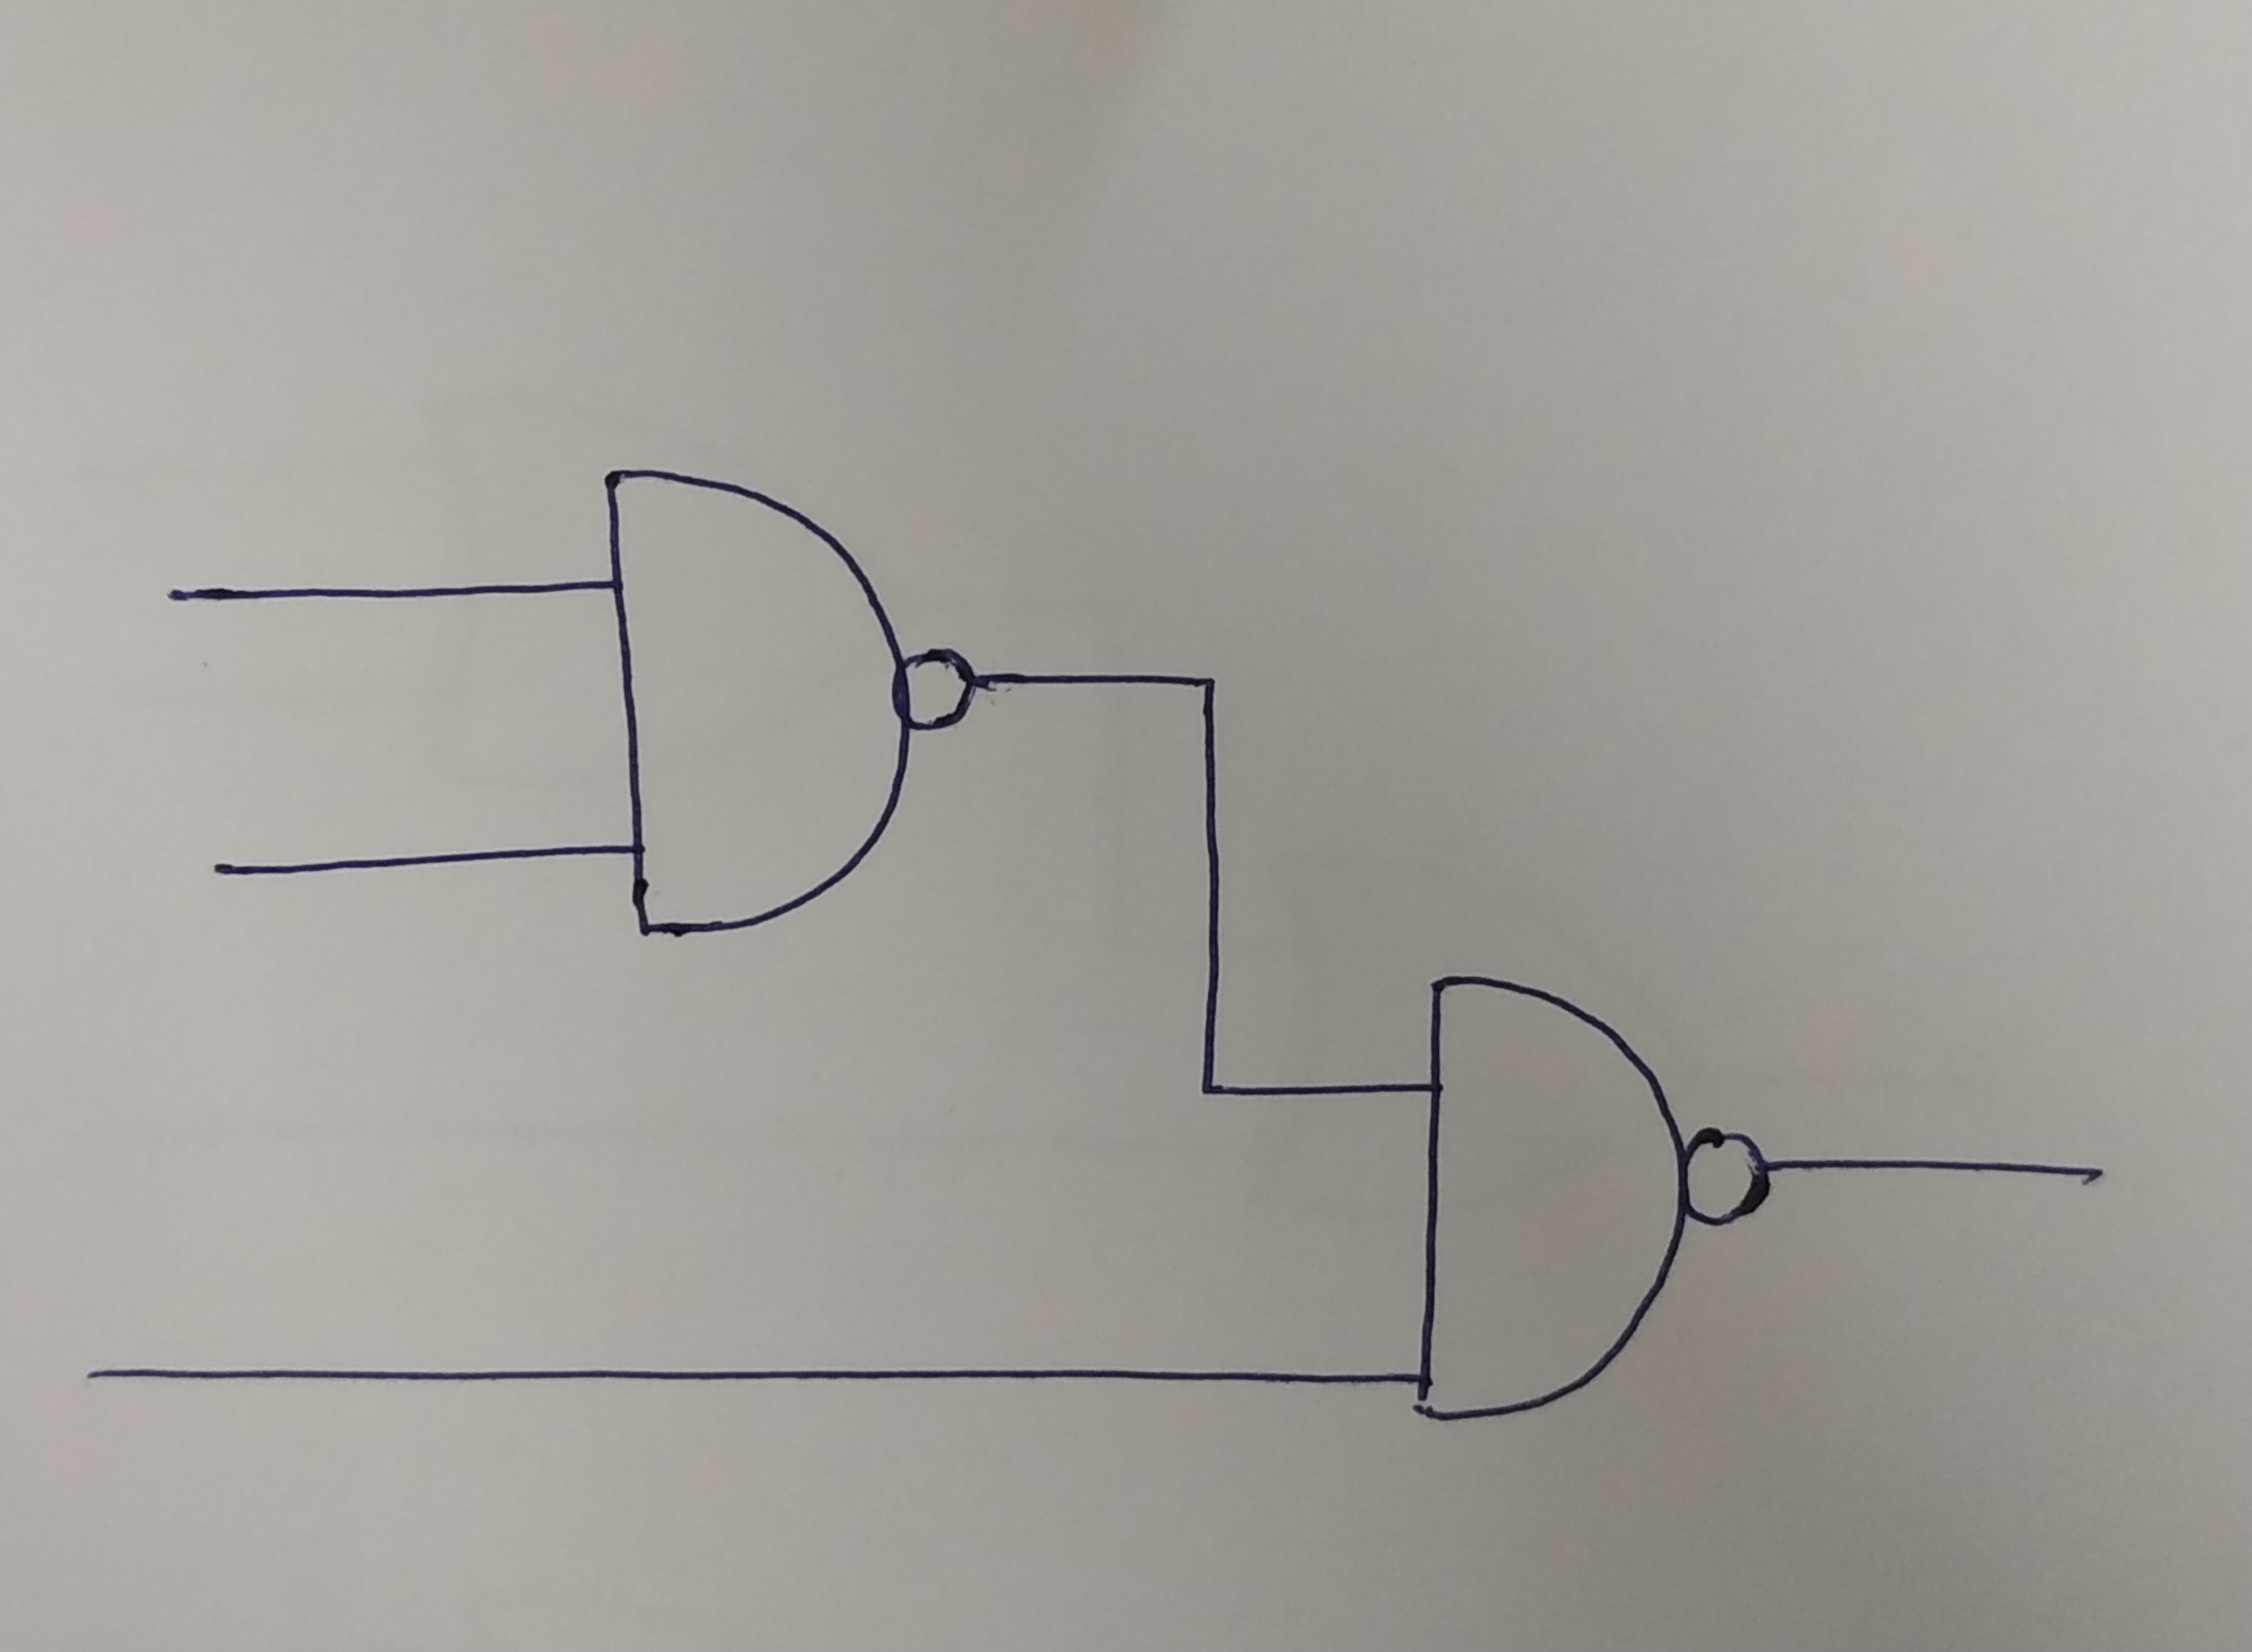and: (607, 462, 902, 932), (1423, 979, 1684, 1416)
not: (1684, 1121, 1771, 1227), (904, 650, 977, 731)
